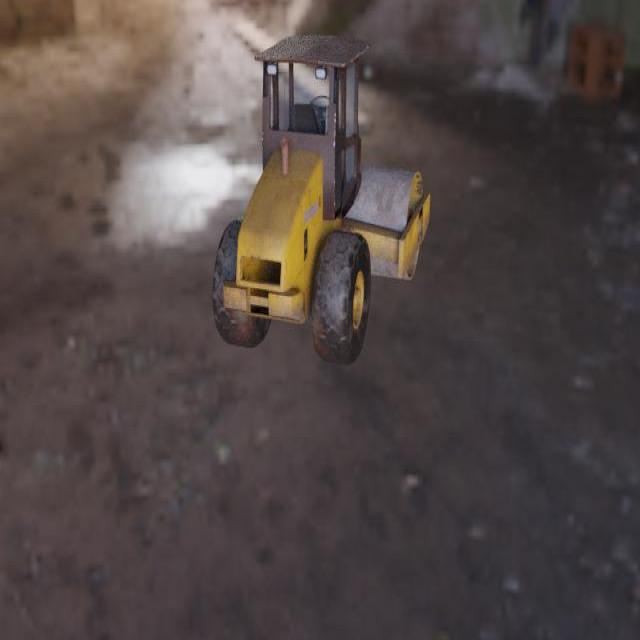Roller: (212, 33, 430, 366)
